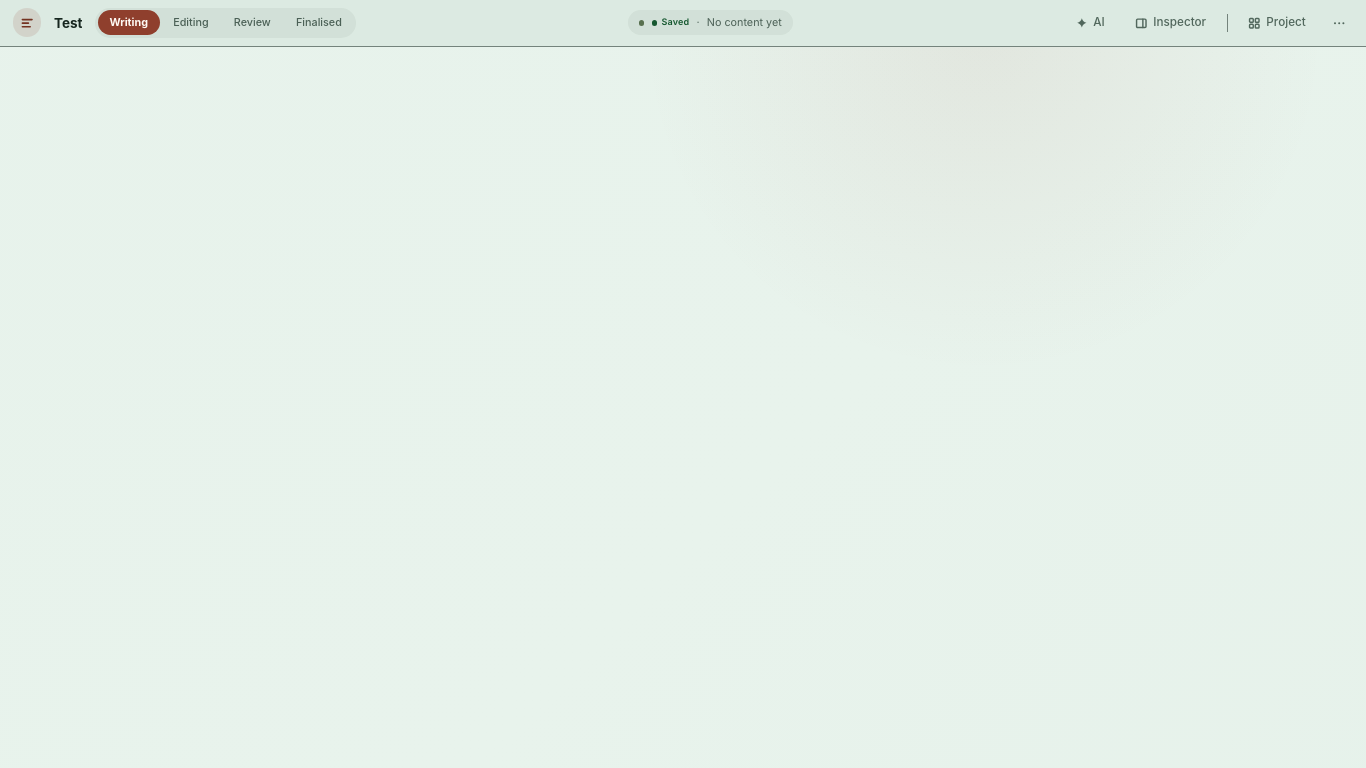
Scenario: ManuscriptTopbar Finish menu › hides Finalise draft for Novella, Short Story and other non-novel types, but keeps Export
What coordinates should you click on to do the following:
click the button named "More"
I would click on:
 (1339, 23)
Its box is [1325, 8, 1353, 37].
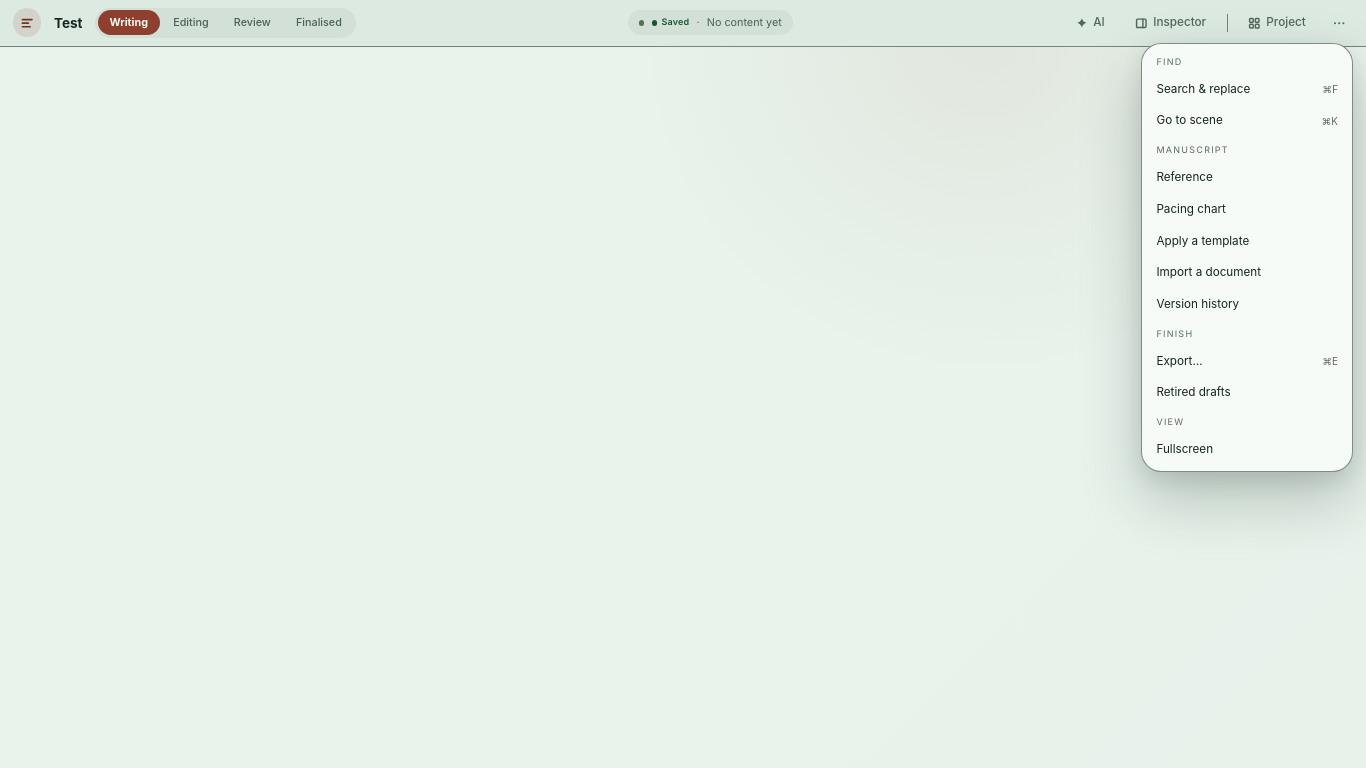
Expected: the button "Export… ⌘E" is shown, [1147, 345, 1347, 377]
